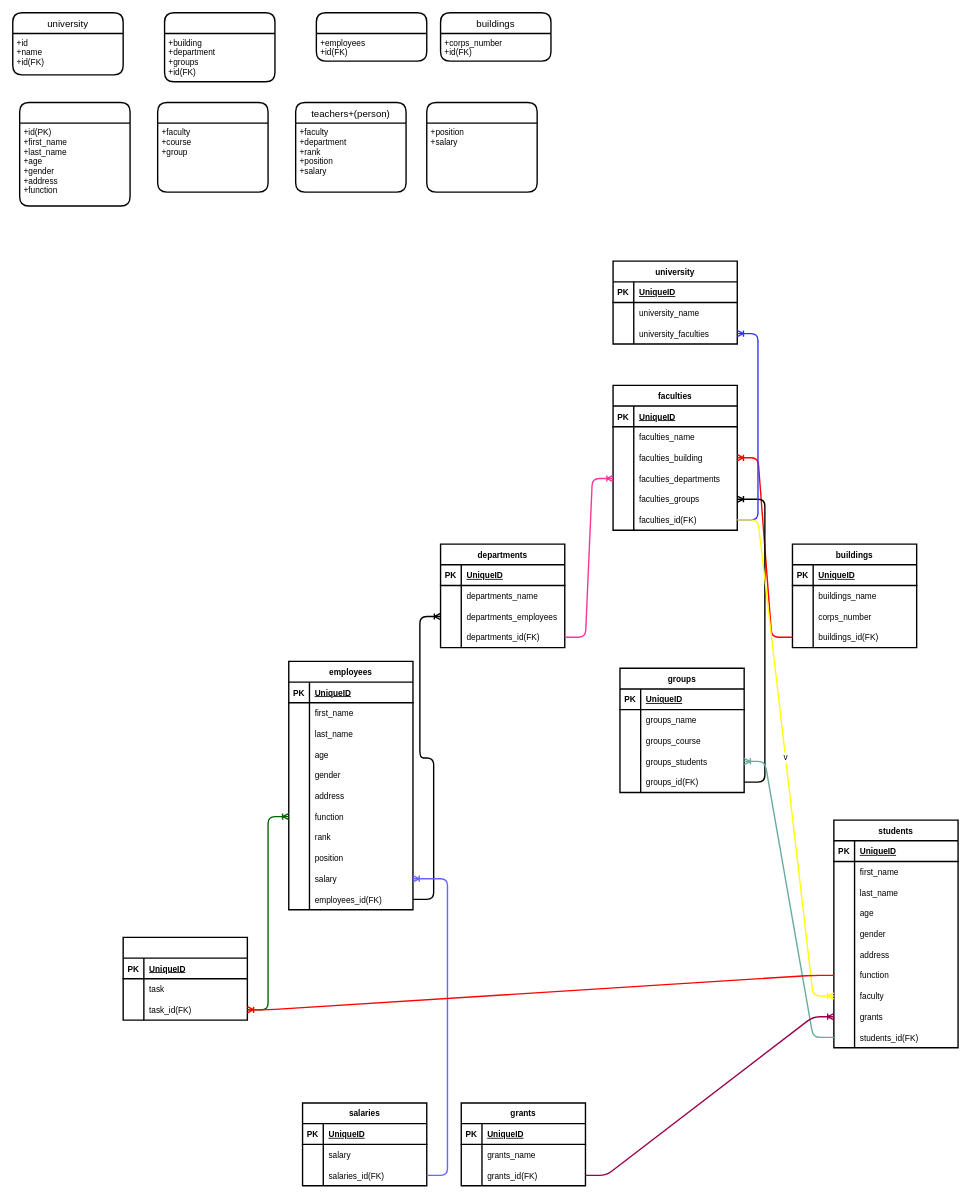
Some shapes in this 970 by 1198 pixel diagram are drawn without their labels. The shapes that lost their labels are listed below. From the top down, each one's box as (x1, y1, x2, y2) in pixels, then its label:
(164, 12, 275, 82): faculty+(university)
(315, 12, 427, 61): department+(university)
(19, 101, 130, 206): persons
(157, 101, 268, 193): students+(person)
(426, 101, 538, 193): employee+(person)
(122, 936, 248, 1021): functions
